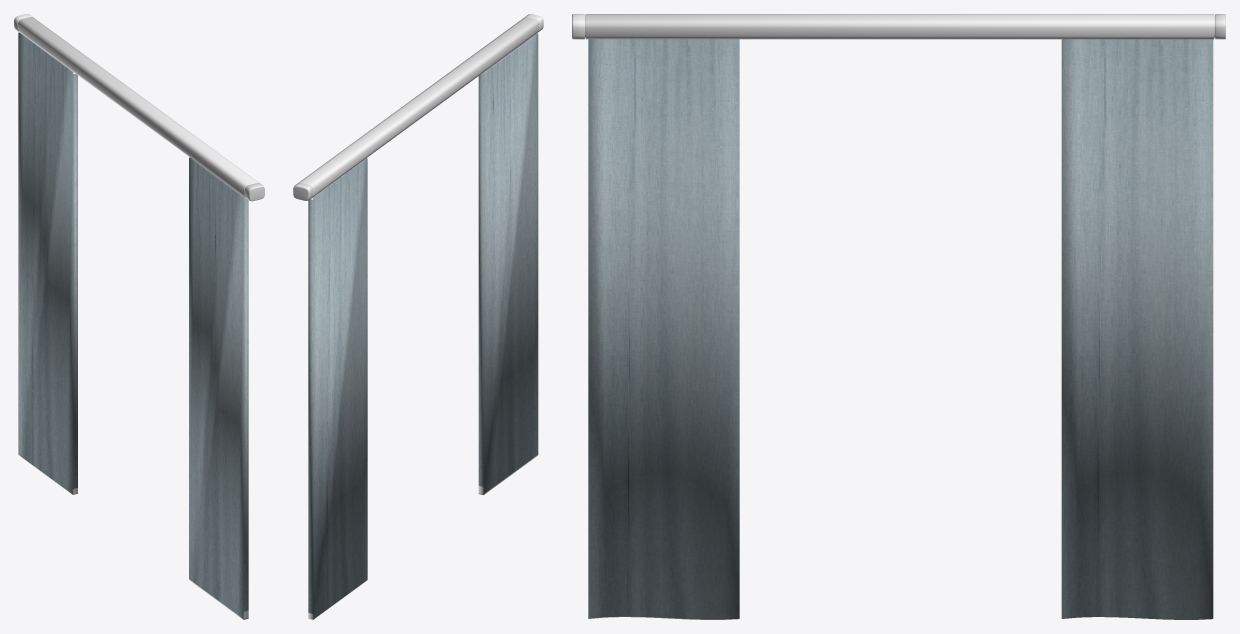
Rendered from aws_Curtain_01_visual.DAE.
3 views of the same model, side by side, from view 1: azimuth 30°, elevation 25°; view 2: azimuth 150°, elevation 25°; view 3: azimuth 270°, elevation 25° (orthographic). The views are drawn at different scales.
Visible parts, largest first — view 1: aws_Curtain_01_visual; view 2: aws_Curtain_01_visual; view 3: aws_Curtain_01_visual.
Boxes of the visible parts, x1,y1,x2,y2 form: aws_Curtain_01_visual: (14,14,264,619); aws_Curtain_01_visual: (293,14,543,619); aws_Curtain_01_visual: (572,14,1225,619).
Bounding box in the file's own units: 9.43 × 242 × 246.
1 material, 1 textured.
